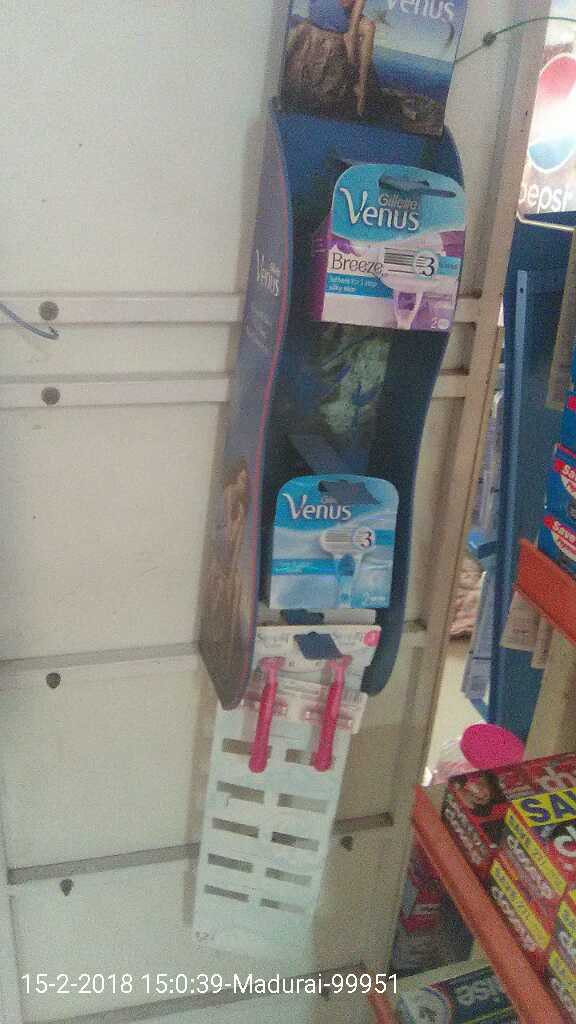venus: (321, 146, 471, 335), (273, 472, 399, 614)
